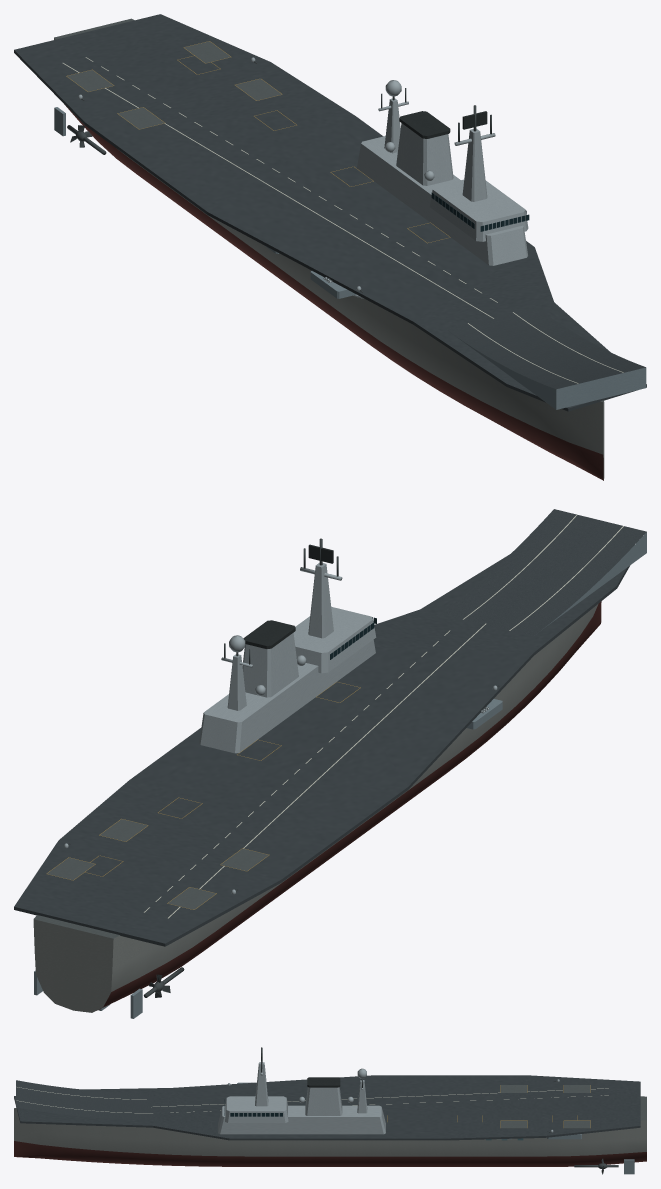
File: wings_liaoning_type001.glb
3 views of the same model, one above another, from view 1: azimuth 30°, elevation 25°; view 2: azimuth 150°, elevation 25°; view 3: azimuth 270°, elevation 25° (orthographic). The views are drawn at different scales.
Parts seen in each view (by area): view 1: static_hull_deck_superstructure; view 2: static_hull_deck_superstructure; view 3: static_hull_deck_superstructure.
Part boxes in pixels (box(x1,y1,x2,y2)): static_hull_deck_superstructure: box(14, 14, 646, 480); static_hull_deck_superstructure: box(14, 509, 646, 1018); static_hull_deck_superstructure: box(14, 1047, 646, 1174).
Size of the model in its own units: 72 by 71.26 by 304.
1 material, 1 textured.
